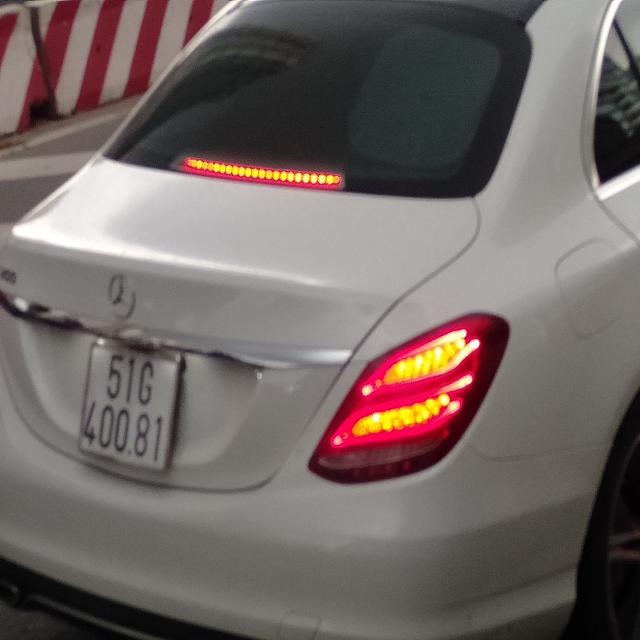bien_trang: (77, 344, 174, 474)
